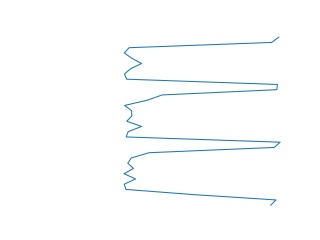majorRiverChannelBar: (121, 37, 283, 207)
